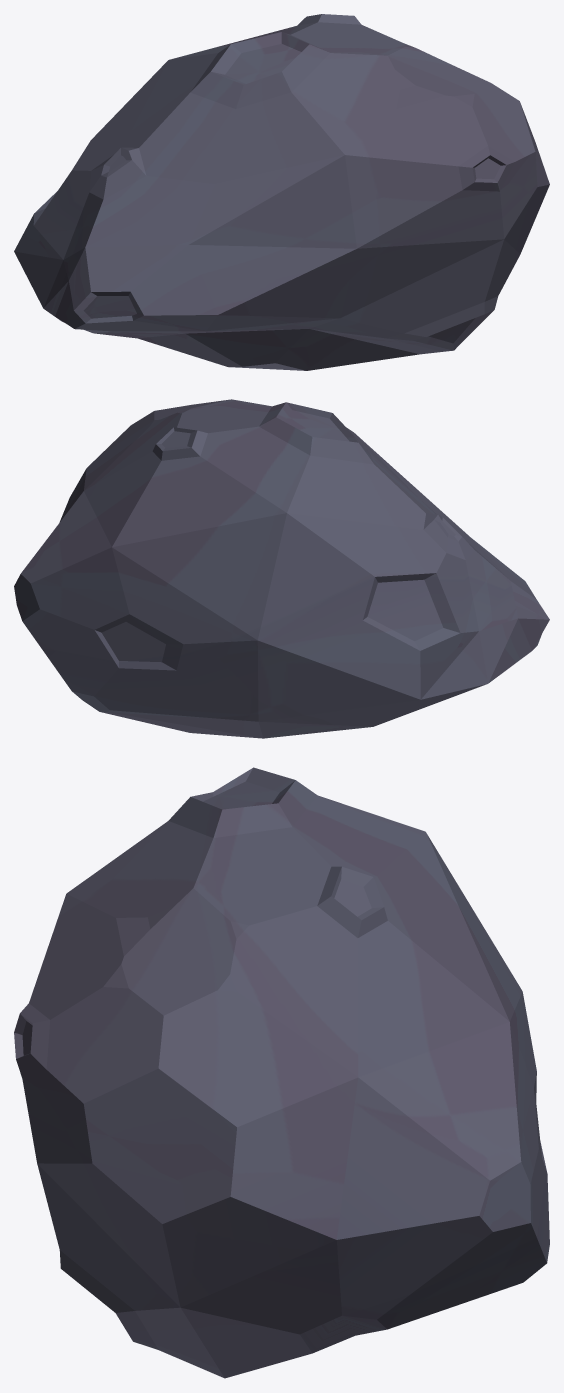
3 views of the same model, one above another, from view 1: azimuth 30°, elevation 25°; view 2: azimuth 150°, elevation 25°; view 3: azimuth 270°, elevation 25° (orthographic). The views are drawn at different scales.
Visible parts, largest first — view 1: метиорит.003; view 2: метиорит.003; view 3: метиорит.003.
Part boxes in pixels (x1,y1,x2,y2): метиорит.003: (14, 14, 549, 370); метиорит.003: (14, 399, 549, 738); метиорит.003: (14, 767, 549, 1378).
Bounding box in the file's own units: 226 × 150 × 148.
Materials: 1 (1 with a texture image).
